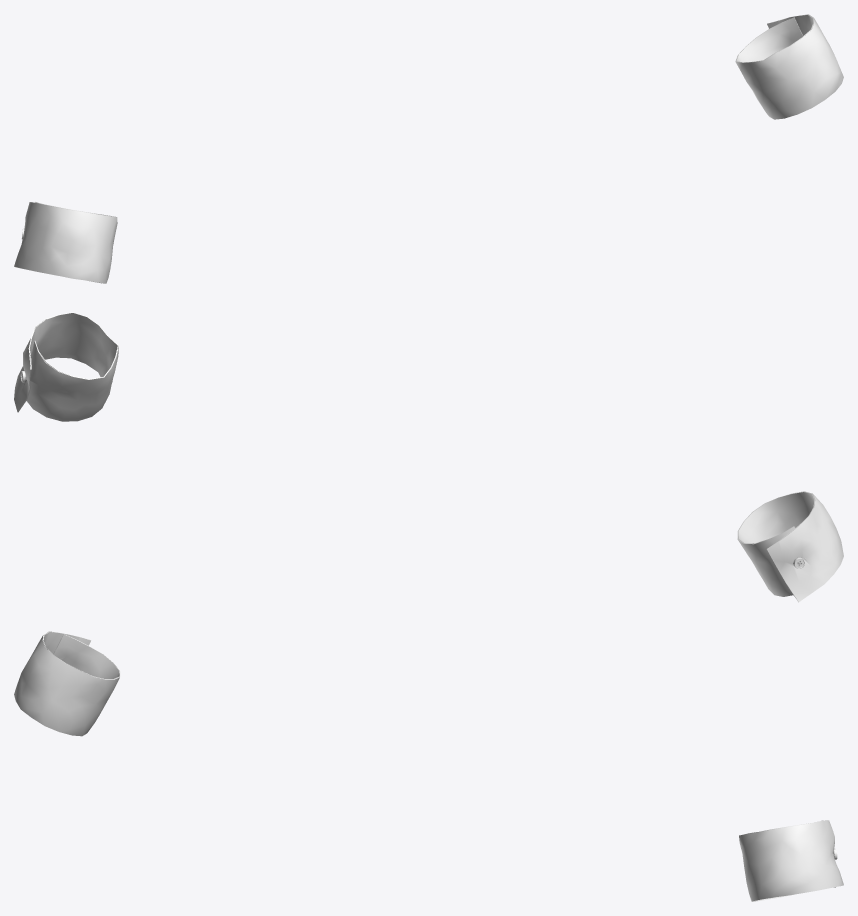
The model's file is single-button-cuff.glb.
3 views of the same model, one above another, from view 1: azimuth 30°, elevation 25°; view 2: azimuth 150°, elevation 25°; view 3: azimuth 330°, elevation 25° (orthographic).
Parts seen in each view (by area): view 1: right_upper, left_upper, left_inner; view 2: right_upper, left_upper, left_inner, right_inner; view 3: left_upper, right_upper, right_inner.
Boxes of the visible parts, x1,y1,x2,y2 form: right_upper: (14, 201, 117, 283); left_upper: (735, 14, 843, 119); left_inner: (736, 14, 813, 62); right_upper: (737, 491, 843, 601); left_upper: (14, 315, 118, 421); left_inner: (18, 312, 118, 412); right_inner: (738, 491, 814, 596); left_upper: (739, 820, 843, 901); right_upper: (14, 631, 120, 736); right_inner: (43, 631, 119, 679).
Bounding box in the file's own units: 0.8339 × 0.0878 × 0.1021.
3 materials, 3 textured.
